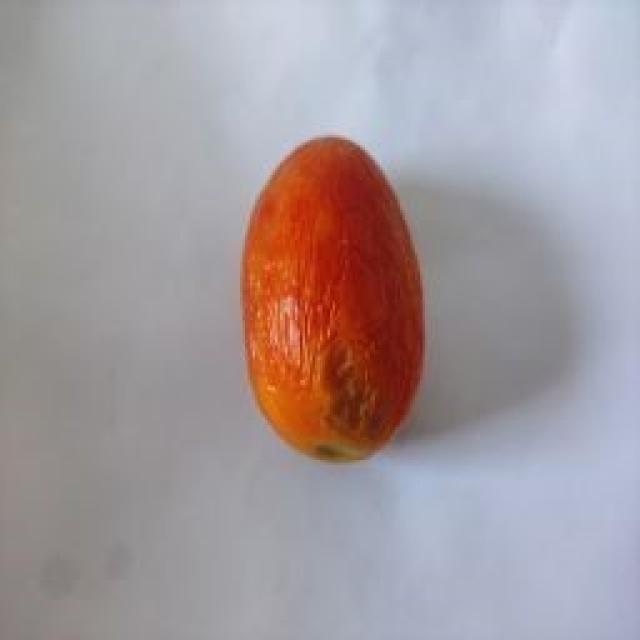overripe: (241, 132, 429, 466)
